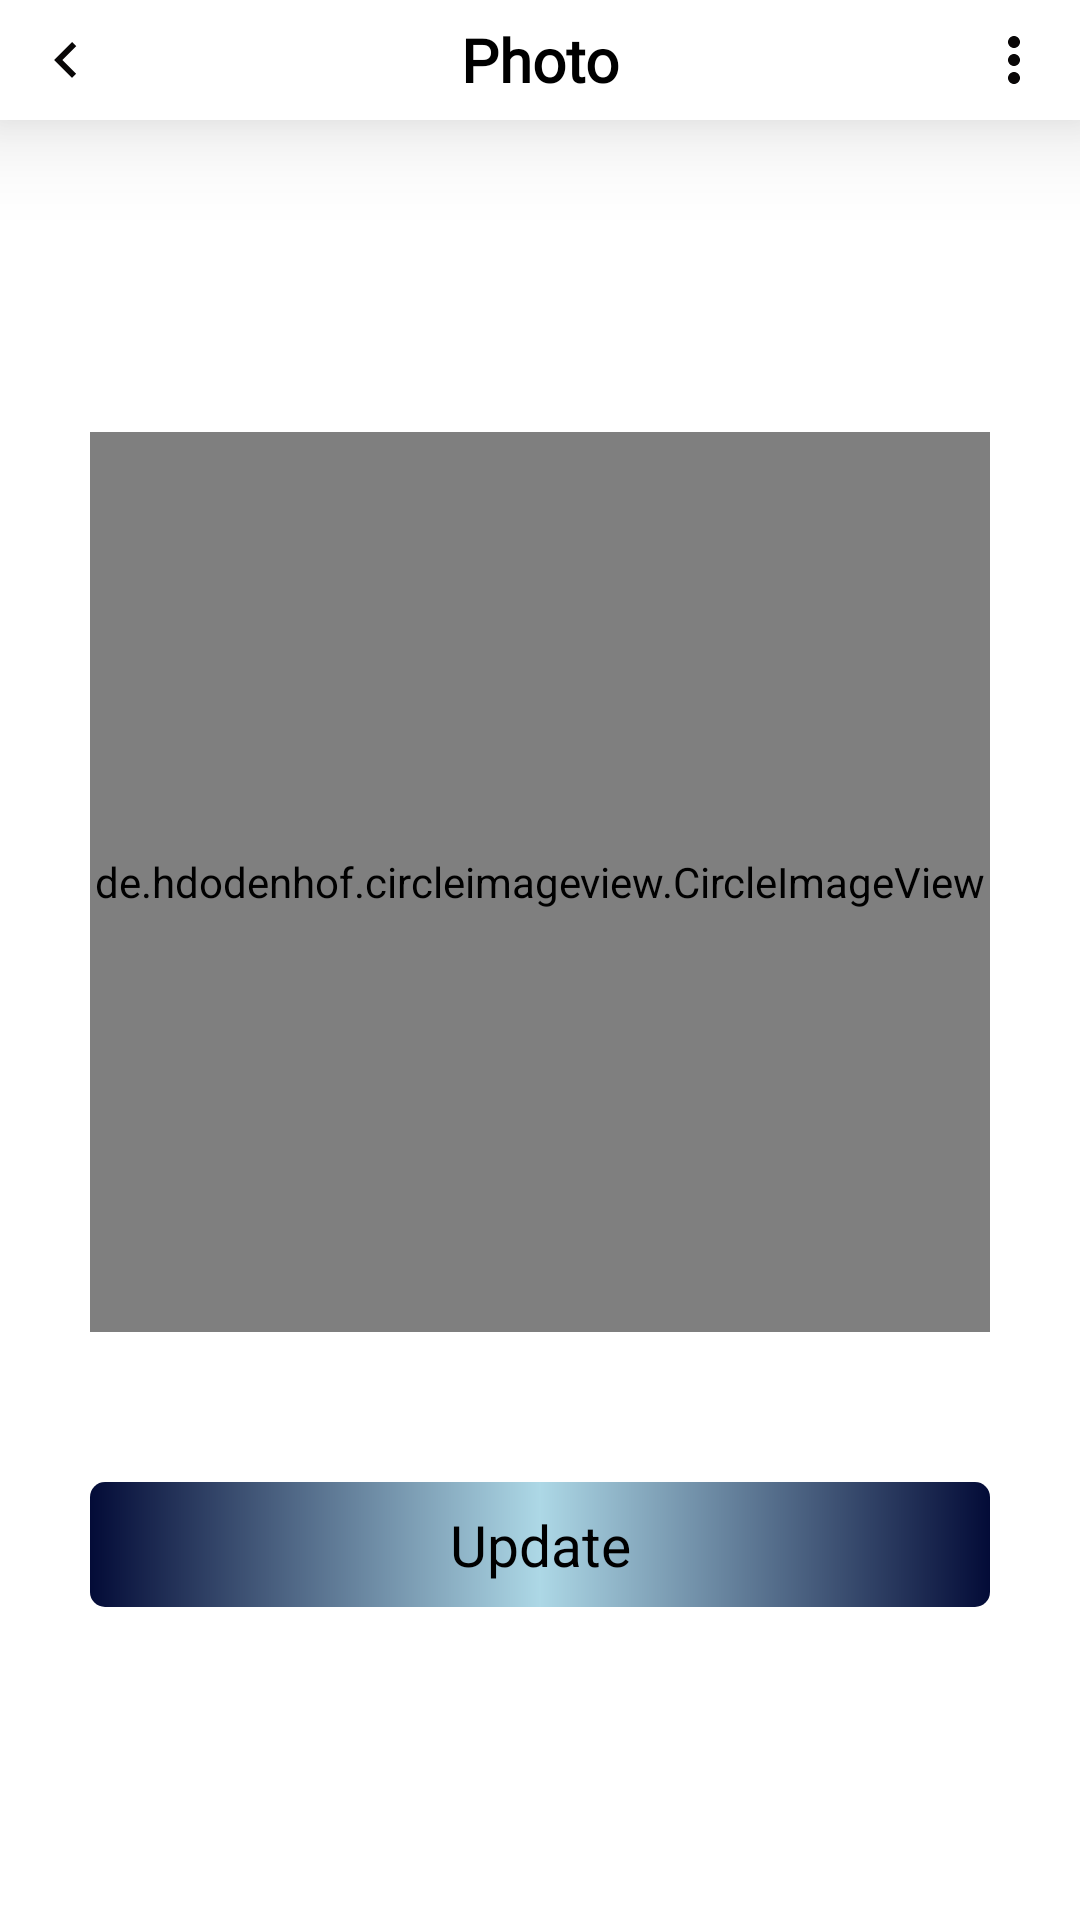

Icon bounding boxes for this 1080w x 1920h phone screenshot, format (x1, y1, x2, y2):
keyboard arrow left: (54, 42, 76, 78)
more vert: (1008, 36, 1020, 84)
